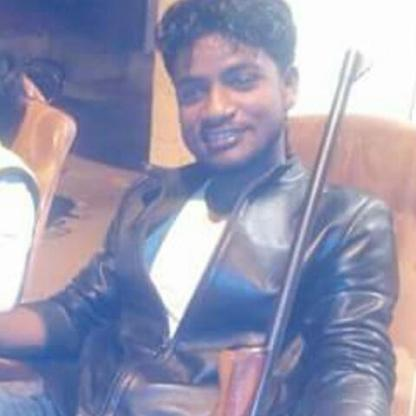rifle: (209, 45, 375, 415)
